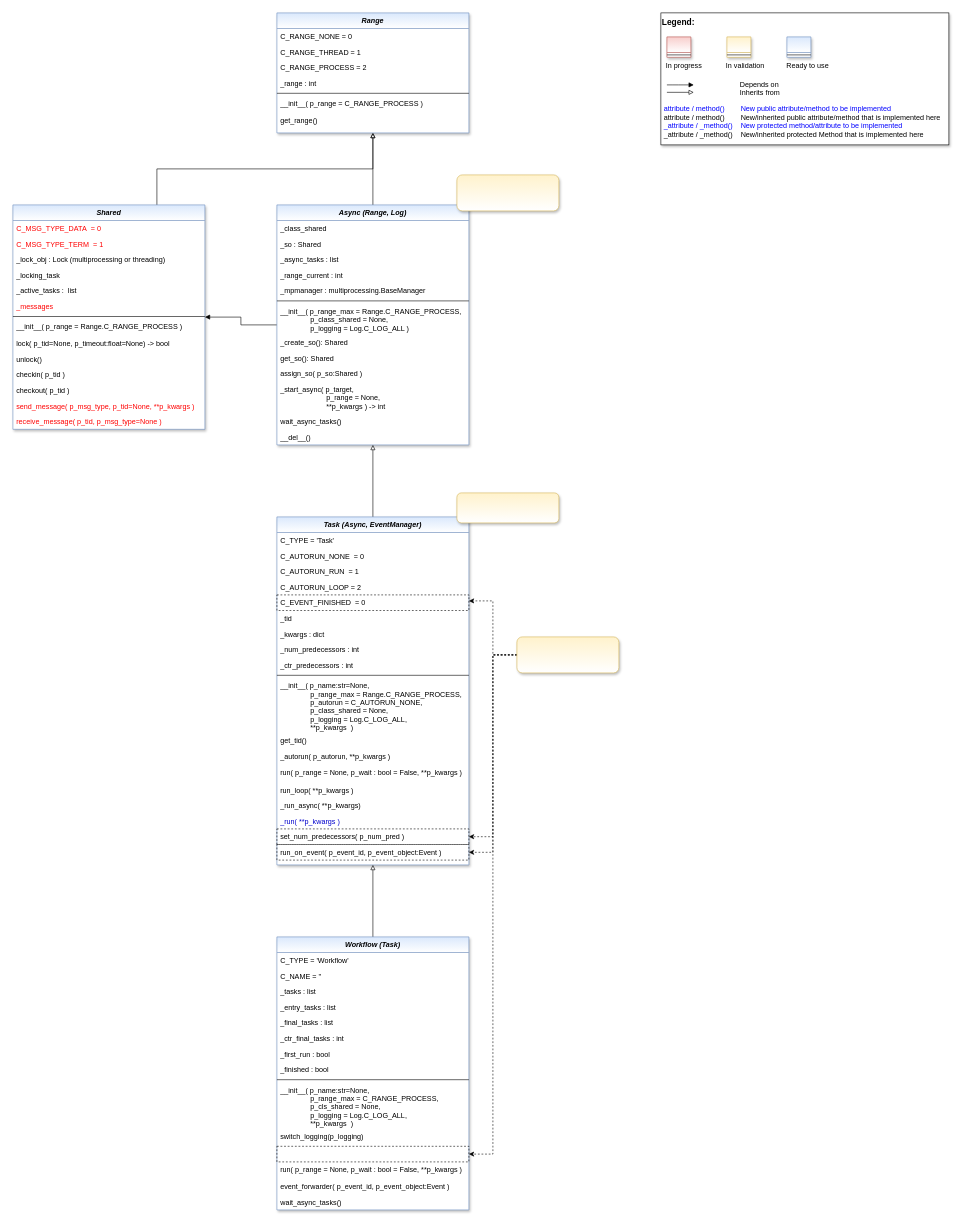
The diagram is 963 pixels wide and 1225 high, and some of its shapes have lost their labels. Each missing label, with the centre of its shape:
add_task( p_task:Task, p_pred_tasks:list=None ): pixel 372 1154
Enables the creation of event oriented task hierarchies.: pixel 568 655
Property class, that enables a child class to start asynchronous sub-tasks: pixel 508 193
Template class for own (asyncronous) Tasks: pixel 508 508
